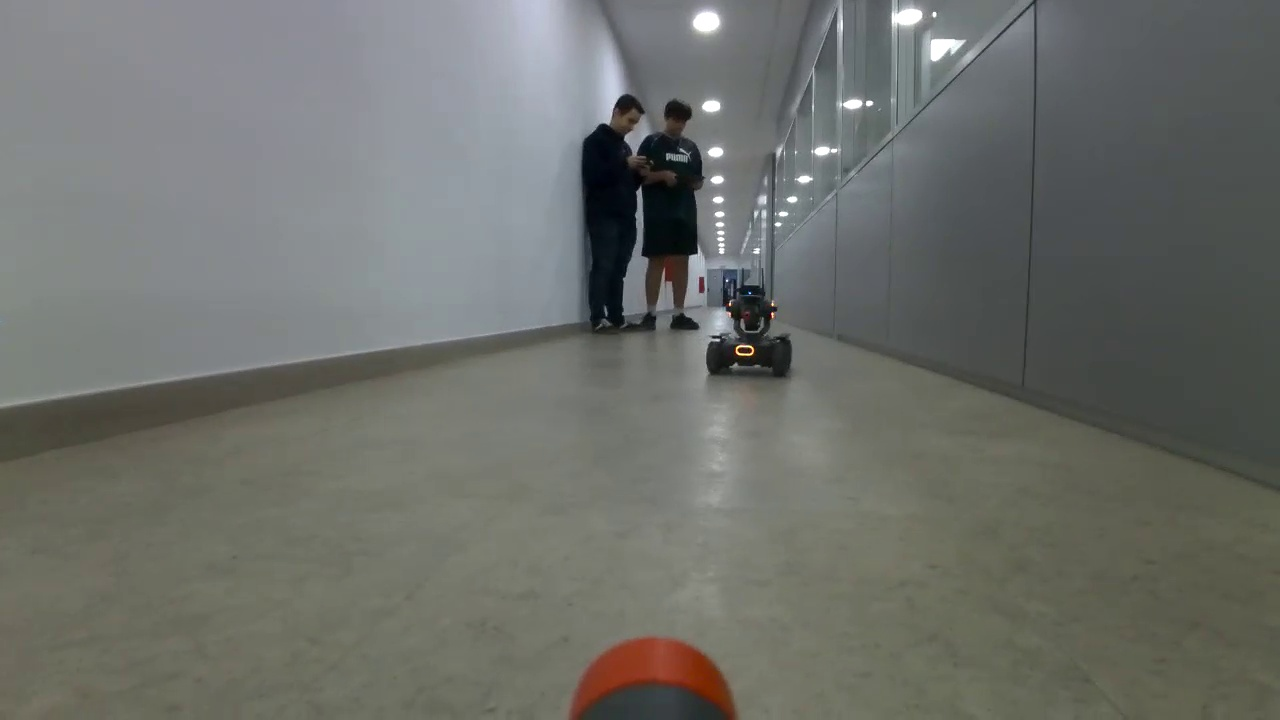robot: (707, 281, 796, 377)
